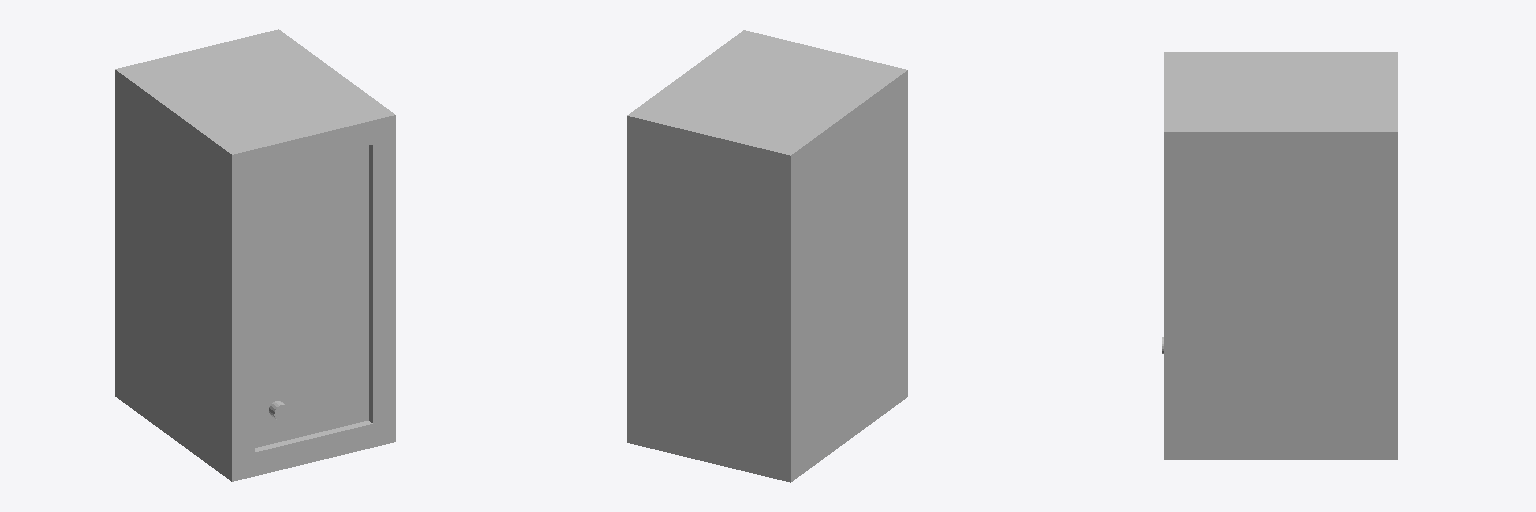
Rendered from alacena_grande.obj.
The picture shows the model from 3 angles: view 1: azimuth 30°, elevation 25°; view 2: azimuth 150°, elevation 25°; view 3: azimuth 270°, elevation 25°; orthographic projection.
Parts seen in each view (by area): view 1: pCube1; view 2: pCube1; view 3: pCube1.
Boxes of the visible parts, box(x1,y1,x2,y2) form: pCube1: box(115, 29, 395, 481); pCube1: box(627, 30, 907, 482); pCube1: box(1164, 52, 1397, 459).
Bounding box in the file's own units: 2.16 × 4.11 × 2.69.